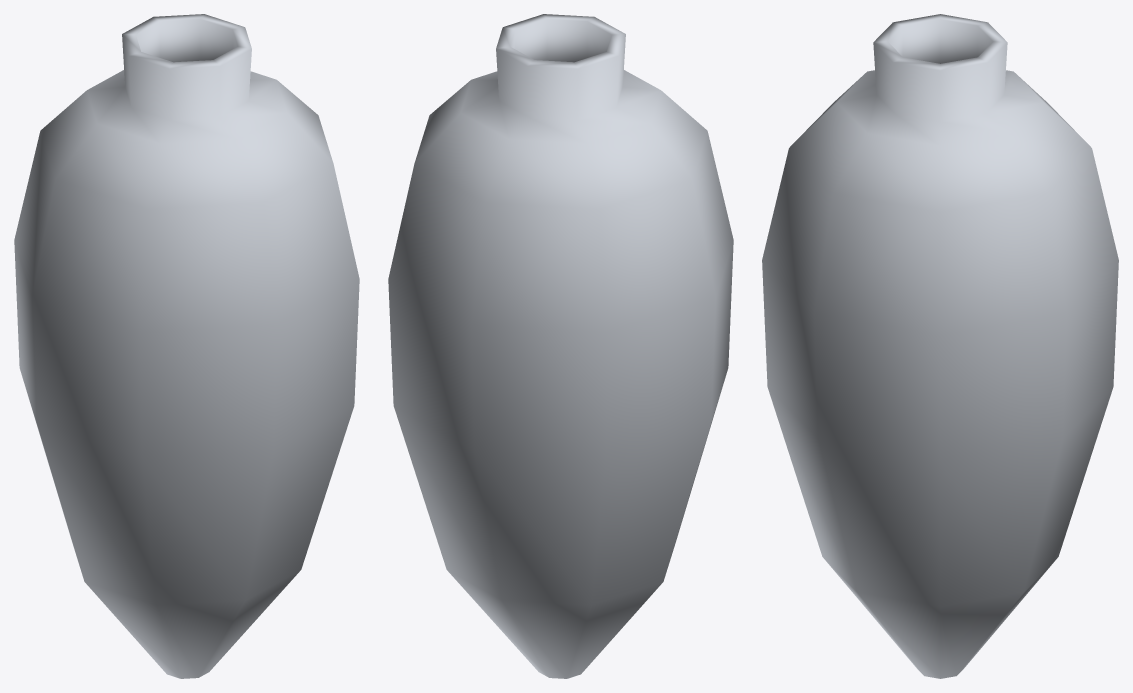
Rendered from bottle_glassware_pear_shaped_flask_small.glb.
3 renders of one model, left to right at view 1: azimuth 30°, elevation 25°; view 2: azimuth 150°, elevation 25°; view 3: azimuth 270°, elevation 25°, orthographic.
Parts seen in each view (by area): view 1: bottle_glassware_pear_shaped_flask_small; view 2: bottle_glassware_pear_shaped_flask_small; view 3: bottle_glassware_pear_shaped_flask_small.
Boxes of the visible parts, box(x1,y1,x2,y2) form: bottle_glassware_pear_shaped_flask_small: box(14, 14, 359, 678); bottle_glassware_pear_shaped_flask_small: box(388, 14, 733, 678); bottle_glassware_pear_shaped_flask_small: box(762, 14, 1118, 678).
Bounding box in the file's own units: 9.84 × 19.1 × 9.84.
Materials: 1 (1 with a texture image).
